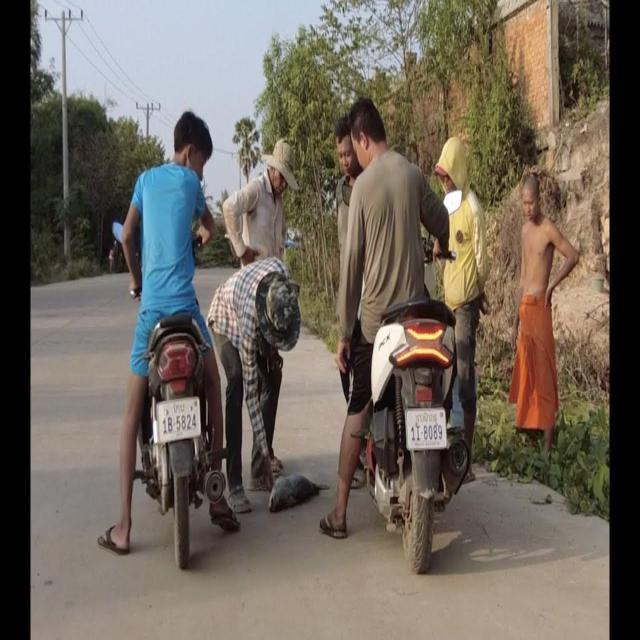Kep: (172, 400, 187, 414)
Preah_Sihanouk: (415, 410, 438, 424)
